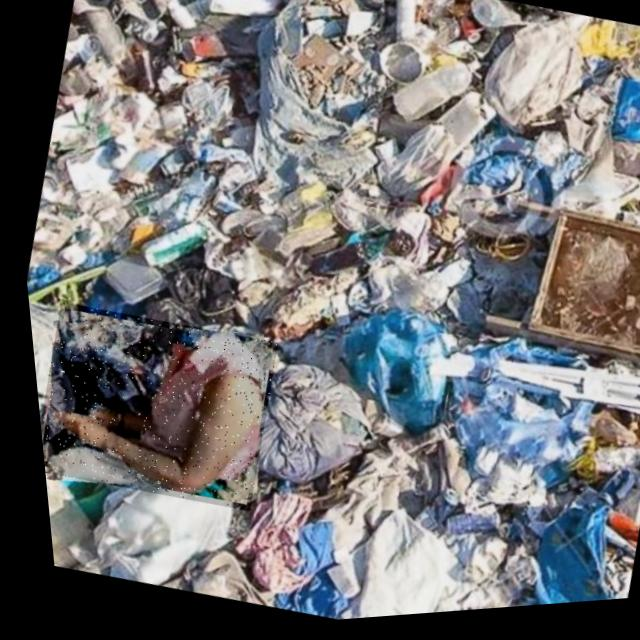Person in Rubble: (23, 289, 283, 525)
